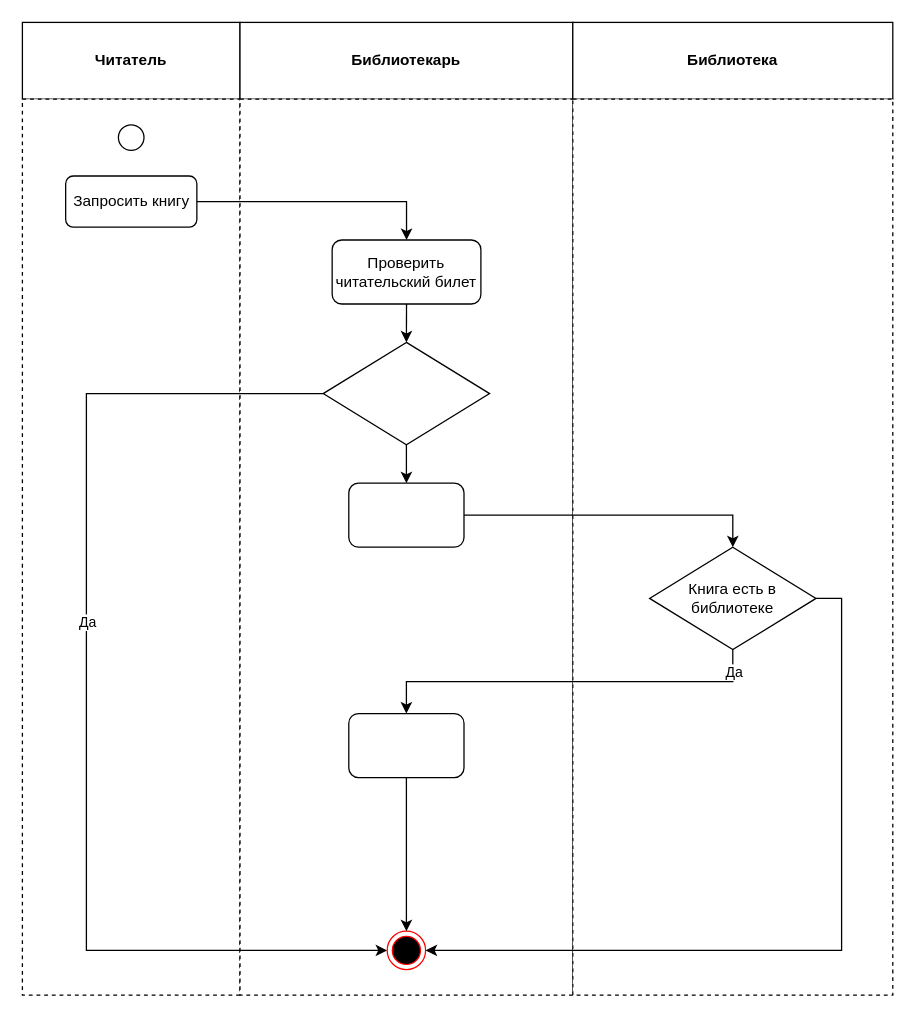
The diagram is 915 pixels wide and 1018 high, and some of its shapes have lost their labels. The box of each missing label's shape, as (x1, y1, x2, y2) in pixels:
Есть долги по книгам?: (322, 341, 490, 445)
Оформить выдачу: (348, 712, 464, 778)
Оформление разрешения на выдачу: (348, 482, 464, 547)
